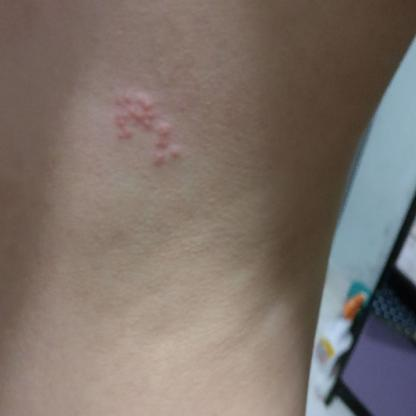Bed Bug: (111, 83, 184, 173)
